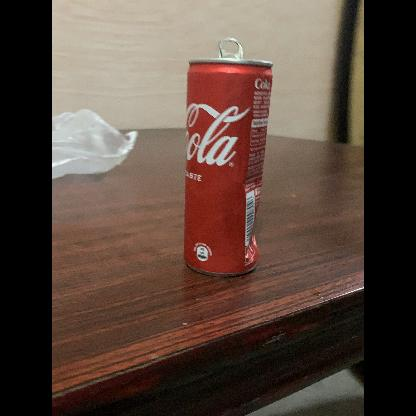Dent_Can: (238, 224, 262, 262), (234, 170, 261, 201)
Lid_Open: (211, 35, 251, 74)
Tin_Can: (178, 34, 276, 282)
